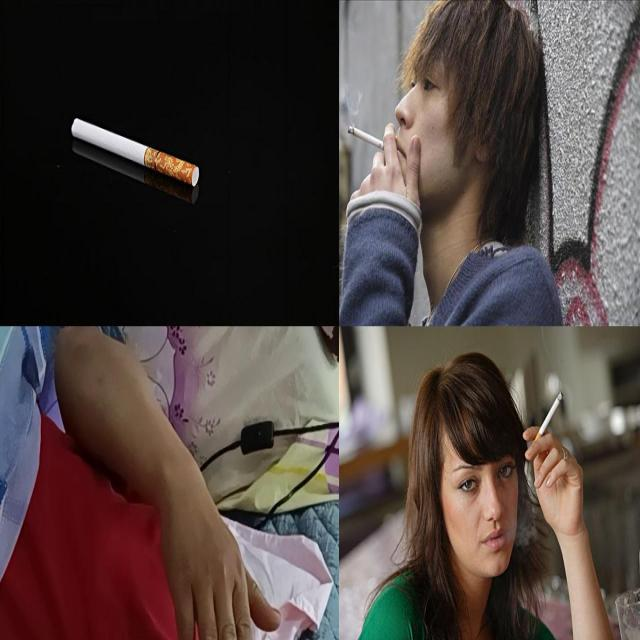smoking: (70, 118, 200, 188), (524, 388, 564, 456), (347, 125, 395, 154)
